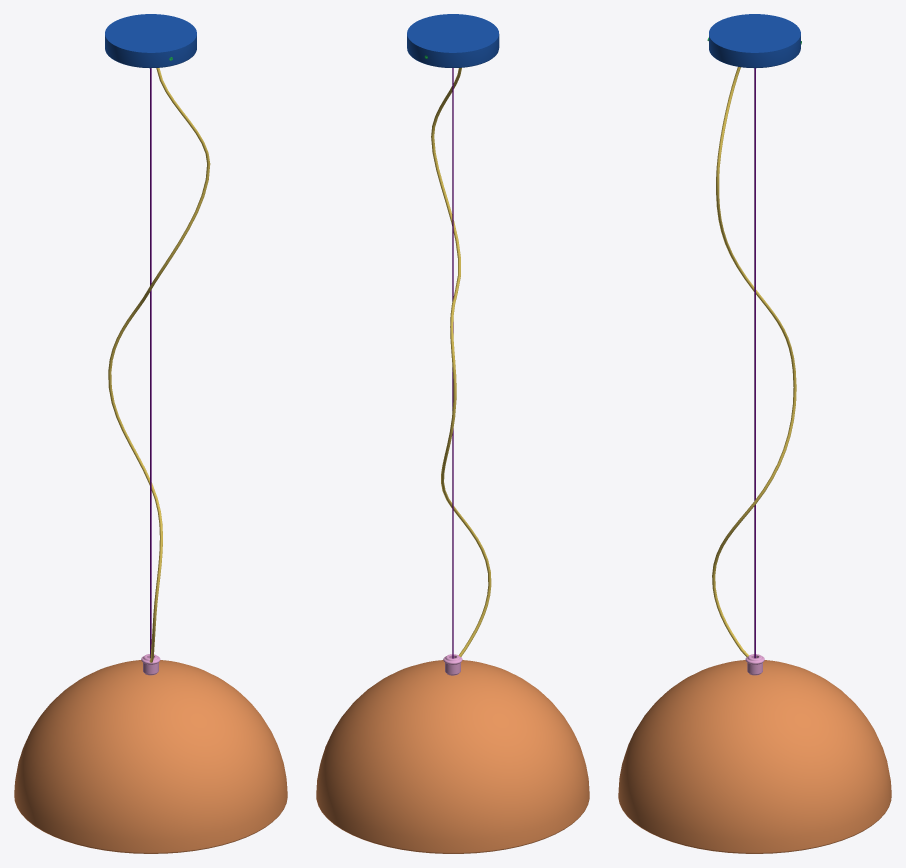
File: lamp.obj
The picture shows the model from 3 angles, left to right: view 1: azimuth 30°, elevation 25°; view 2: azimuth 150°, elevation 25°; view 3: azimuth 270°, elevation 25°; orthographic projection.
Parts seen in each view (by area): view 1: Sphere002, Cylinder091, Line002, Cylinder089; view 2: Sphere002, Cylinder091, Line002, Cylinder089; view 3: Sphere002, Cylinder091, Line002, Cylinder089.
Part boxes in pixels (left/top/right/bottom): Sphere002: left=14, top=660, right=287, bottom=853; Cylinder091: left=105, top=14, right=196, bottom=68; Line002: left=108, top=68, right=210, bottom=662; Cylinder089: left=150, top=68, right=151, bottom=658; Sphere002: left=316, top=660, right=589, bottom=853; Cylinder091: left=407, top=14, right=499, bottom=67; Line002: left=431, top=68, right=491, bottom=656; Cylinder089: left=452, top=68, right=453, bottom=658; Sphere002: left=618, top=660, right=891, bottom=853; Cylinder091: left=709, top=14, right=800, bottom=68; Line002: left=712, top=67, right=796, bottom=657; Cylinder089: left=754, top=68, right=755, bottom=658.
Size of the model in its own units: 483 by 1489 by 483.
